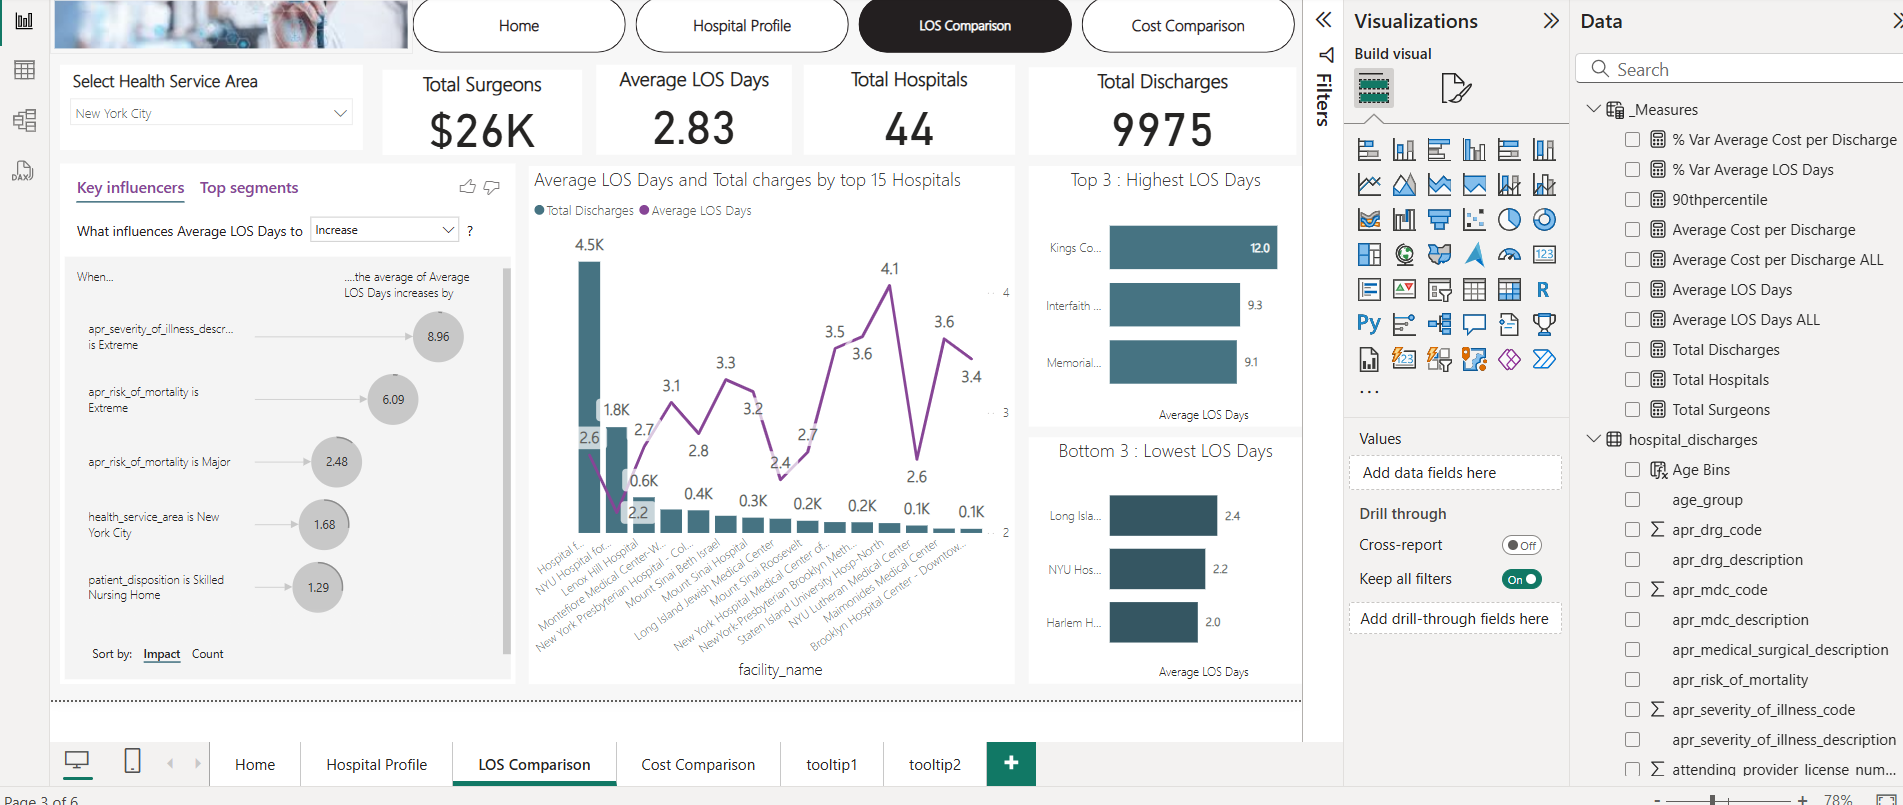

The dashboard page shown, as its layout file describes it:
{"tool":"powerbi","page":{"name":"LOS Comparison","canvas":[1280,720],"ordinal":2},"visuals":[{"type":"card","title":"Total Surgeons","fields":{"Values":["_Measures.Average Cost per Discharge"]},"box":[340.2,74.8,203.9,86.9],"z":0},{"type":"lineStackedColumnComboChart","title":"Average  LOS Days and Total charges by top 15 Hospitals","fields":{"Y":["_Measures.Total Discharges"],"Category":["hospital_discharges.facility_name"],"Y2":["_Measures.Average LOS Days"]},"box":[489.8,173.7,497.1,529.6],"z":1000},{"type":"slicer","fields":{"Values":["hospital_discharges.health_service_area"]},"box":[10.2,70.3,309.2,86.9],"z":2000},{"type":"card","title":"Average LOS Days","fields":{"Values":["_Measures.Average LOS Days"]},"box":[558.6,70,200.3,91.7],"z":3000},{"type":"card","title":"Total Hospitals","fields":{"Values":["_Measures.Total Hospitals"]},"box":[770.5,70.3,215.9,92],"z":4000},{"type":"card","title":"Total Discharges","fields":{"Values":["_Measures.Total Discharges"]},"box":[1000.1,72.4,273.9,89.3],"z":5000},{"type":"keyDriversVisual","fields":{"ExplainBy":["hospital_discharges.apr_risk_of_mortality","hospital_discharges.apr_severity_of_illness_description","hospital_discharges.ccs_diagnosis_description","hospital_discharges.patient_disposition","hospital_discharges.gender","hospital_discharges.Age Bins","surgical_program_volume_summary.surgical program size","hospital_discharges.health_service_area"],"Target":["_Measures.Average LOS Days"]},"box":[9.7,171.3,465.7,532],"z":6000},{"type":"clusteredBarChart","title":"Top 3 : Highest LOS Days","fields":{"Category":["hospital_discharges.facility_name"],"Y":["_Measures.Average LOS Days"]},"box":[1000.1,173.7,279.9,266.6],"z":7000},{"type":"clusteredBarChart","title":"Bottom 3 : Lowest LOS Days","fields":{"Category":["hospital_discharges.facility_name"],"Y":["_Measures.Average LOS Days"]},"box":[1000.1,451.2,279.9,252.1],"z":8000},{"type":"pageNavigator","box":[370.5,0,903.3,58.8],"z":8001},{"type":"image","box":[0,0,370.5,58.8],"z":8002}]}

Visuals, with their boxes on the page's 1280x720 design canvas (x1, y1, x2, y2). These are canvas units, not pixel positions in the 1903x805 screenshot, which may show the page scaled, cropped or inside an application window:
"Total Surgeons" card: x1=340, y1=75, x2=544, y2=162
"Average  LOS Days and Total charges by top 15 Hospitals" lineStackedColumnComboChart: x1=490, y1=174, x2=987, y2=703
slicer - hospital_discharges.health_service_area: x1=10, y1=70, x2=319, y2=157
"Average LOS Days" card: x1=559, y1=70, x2=759, y2=162
"Total Hospitals" card: x1=770, y1=70, x2=986, y2=162
"Total Discharges" card: x1=1000, y1=72, x2=1274, y2=162
keyDriversVisual - hospital_discharges.apr_risk_of_mortality x hospital_discharges.apr_severity_of_illness_description: x1=10, y1=171, x2=475, y2=703
"Top 3 : Highest LOS Days" clusteredBarChart: x1=1000, y1=174, x2=1280, y2=440
"Bottom 3 : Lowest LOS Days" clusteredBarChart: x1=1000, y1=451, x2=1280, y2=703
pageNavigator: x1=370, y1=0, x2=1274, y2=59
image: x1=0, y1=0, x2=370, y2=59
